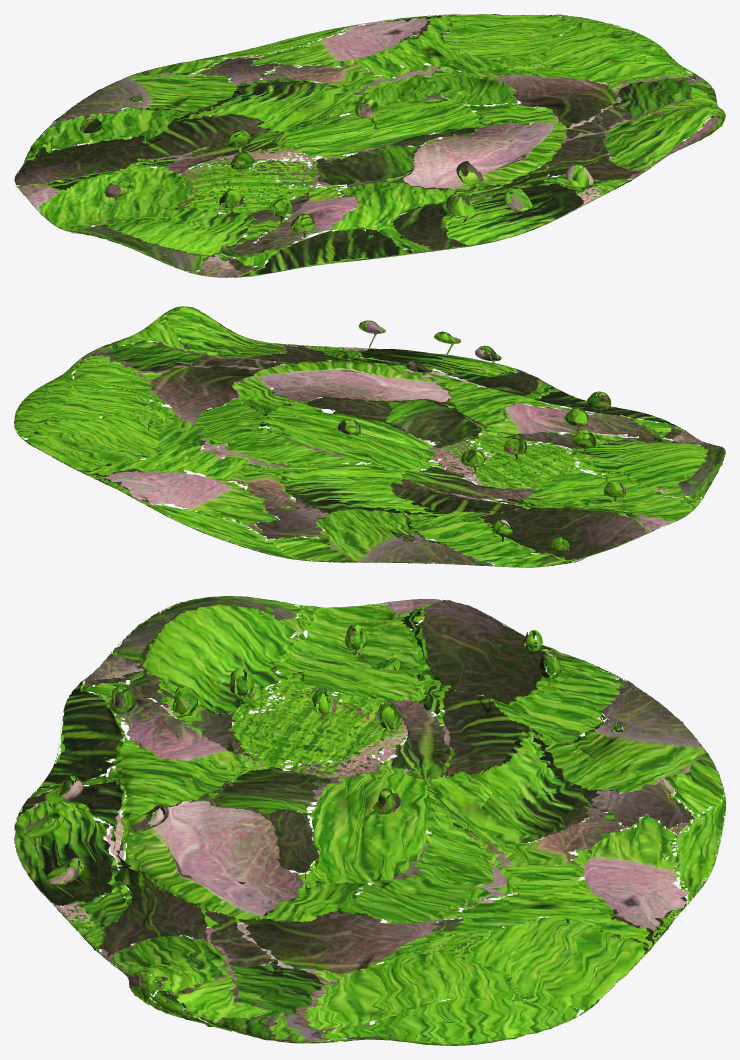
The model's file is user_island.glb.
3 views of the same model, one above another, from view 1: azimuth 30°, elevation 25°; view 2: azimuth 150°, elevation 25°; view 3: azimuth 270°, elevation 25° (orthographic). The views are drawn at different scales.
Visible parts, largest first — view 1: Island; view 2: Island; view 3: Island.
Boxes of the visible parts, left/top/right/bottom form: Island: left=14, top=14, right=725, bottom=277; Island: left=14, top=306, right=725, bottom=567; Island: left=14, top=596, right=725, bottom=1045.
Size of the model in its own units: 1.1 by 0.0677 by 0.7672.
Materials: 1 (1 with a texture image).
